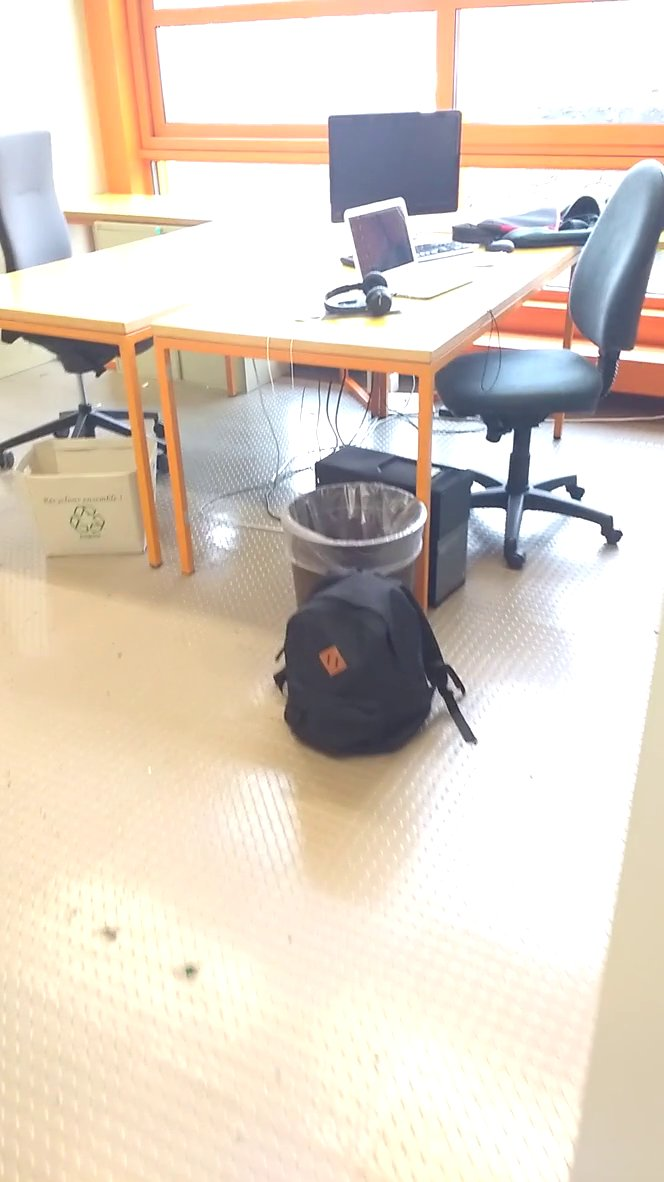bag: (265, 563, 485, 764)
bin: (277, 481, 434, 589)
box: (1, 425, 168, 563)
chair: (436, 129, 664, 584), (2, 113, 173, 487)
laptop: (337, 187, 488, 305)
